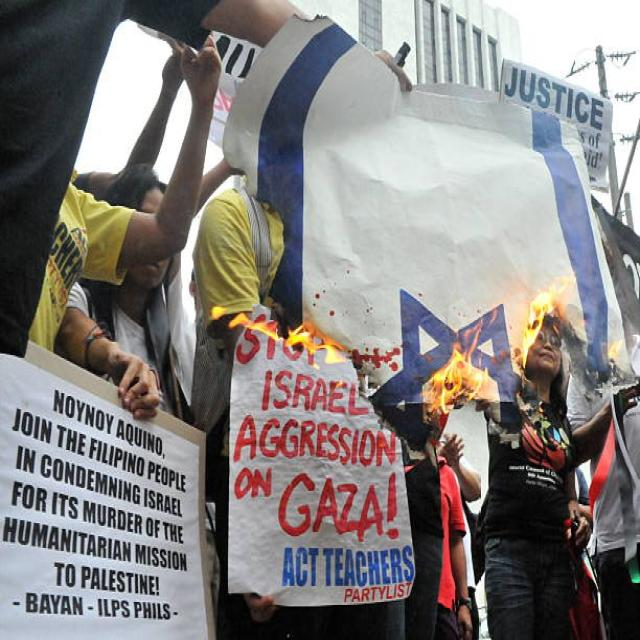fire: (228, 311, 349, 362), (423, 344, 489, 416), (520, 292, 564, 369)
